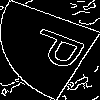P: (25, 25, 100, 76)
